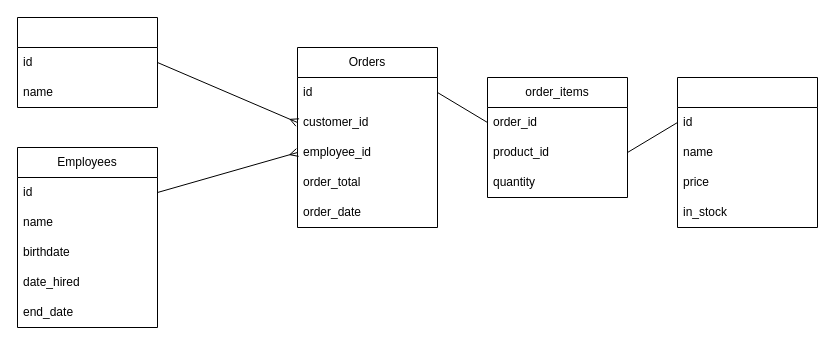
Image size: 835x345. Some labels were removed from this diagram. Here are the shapes that lost their labels. From the top down, the box of each, then its label:
(16, 16, 158, 108): Customers
(676, 76, 818, 228): Products
